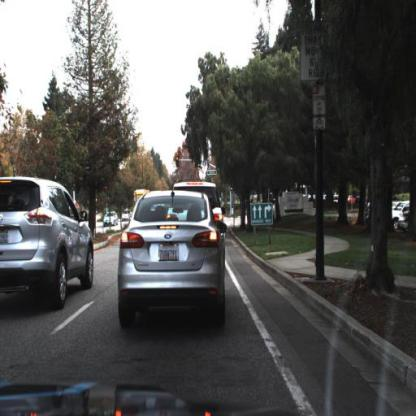car: (119, 189, 227, 332), (1, 176, 95, 335), (389, 199, 408, 230), (209, 183, 221, 225)
trafficLight: (176, 157, 180, 168)
